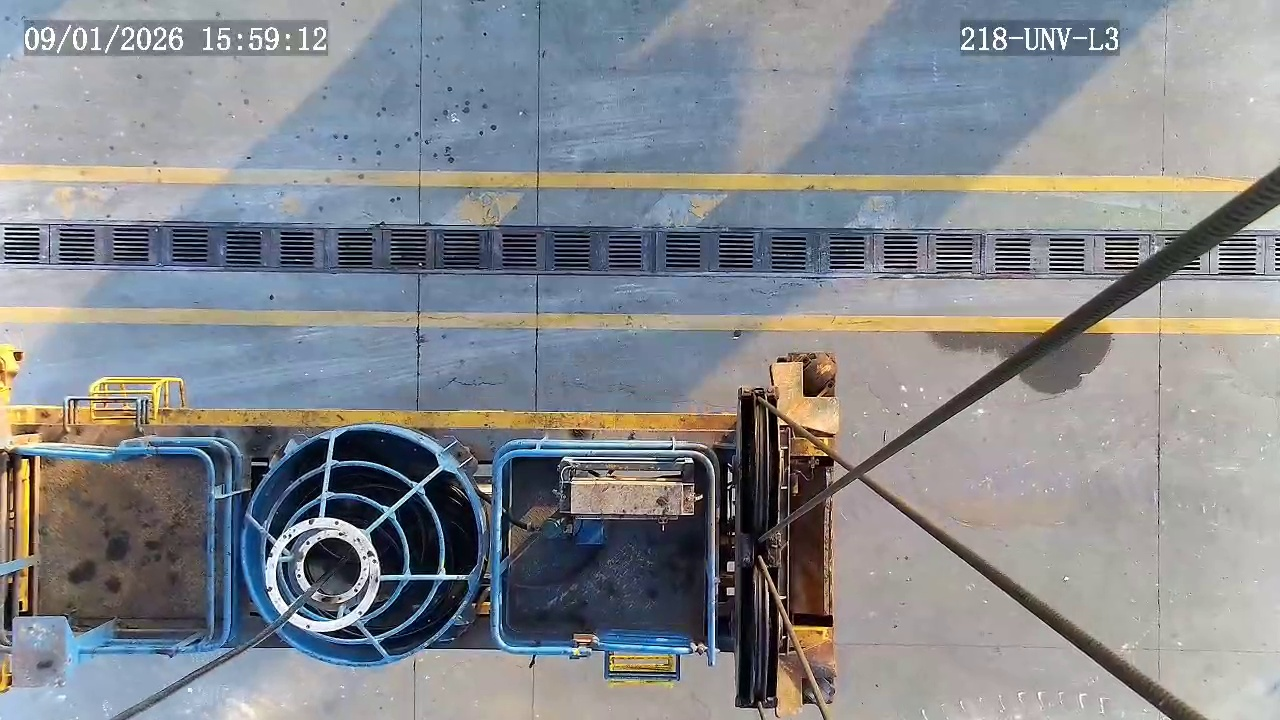right: (241, 425, 481, 665)
